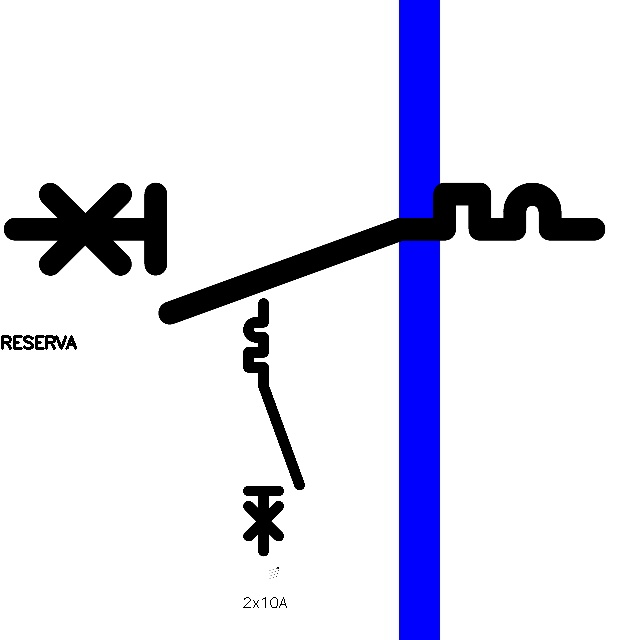interruptor_termomagnetico: (0, 179, 609, 328), (242, 297, 306, 558)
